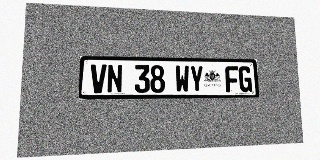3: (135, 65, 150, 93)
8: (150, 65, 165, 93)
F: (225, 66, 239, 92)
G: (238, 66, 252, 92)
N: (107, 64, 123, 93)
V: (90, 64, 107, 93)
W: (175, 65, 189, 92)
Y: (189, 65, 204, 92)
